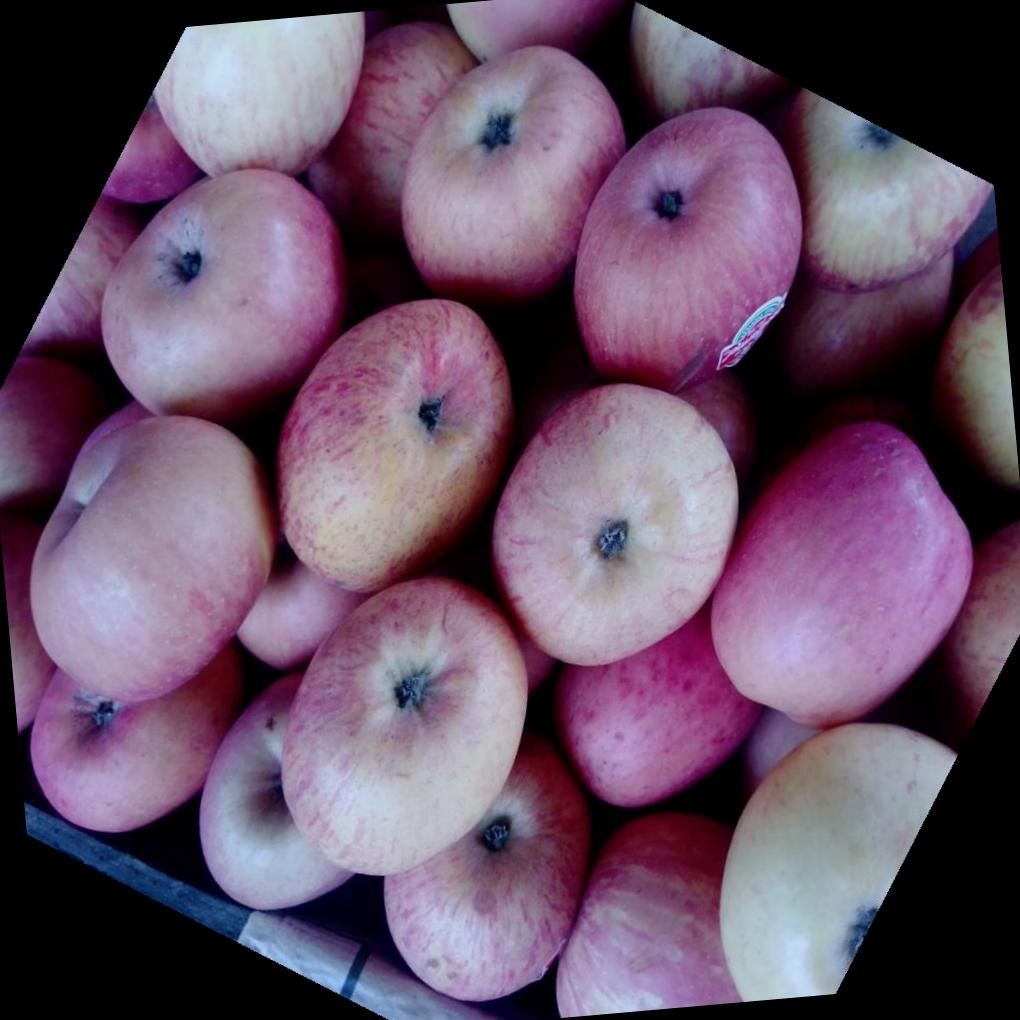FreshGuava: (0, 0, 1020, 1016)
